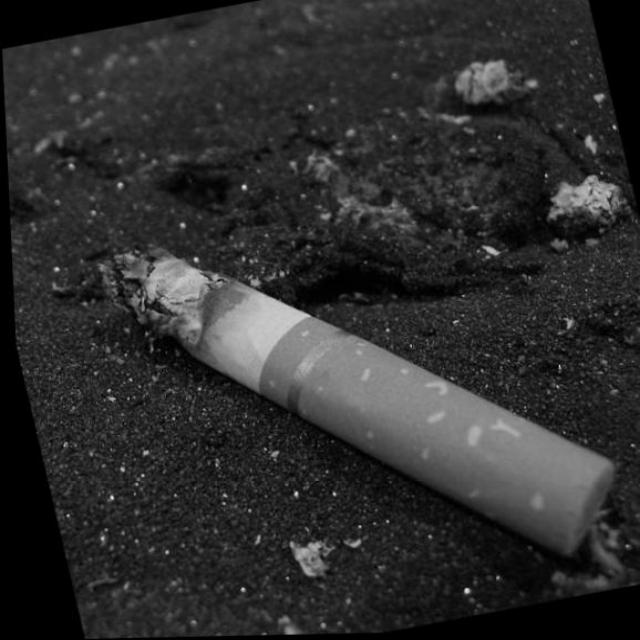cigarette: (82, 159, 639, 638)
